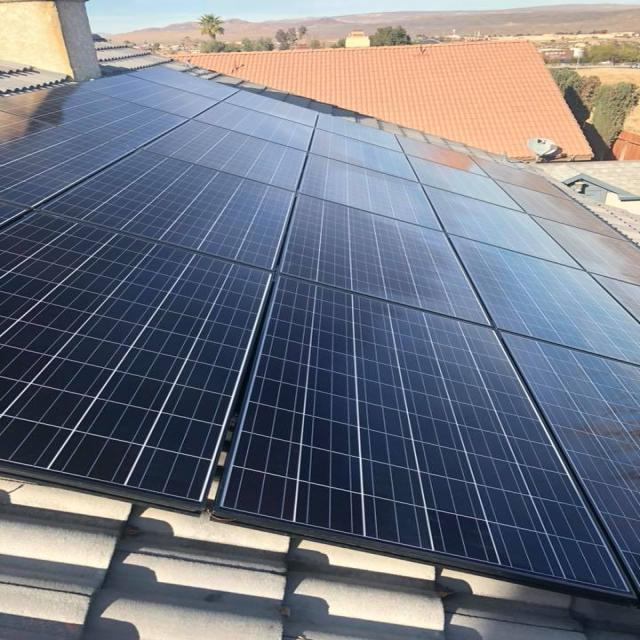clean-solar-panel: (3, 69, 638, 599)
